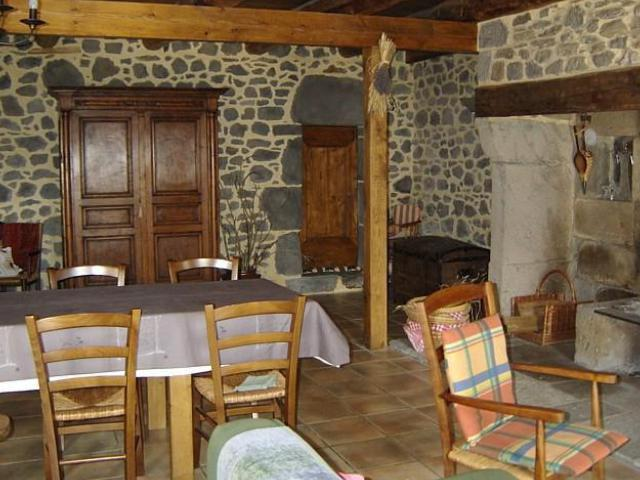Armario: (62, 88, 213, 262)
Otro Obstaculo: (389, 231, 471, 310)
